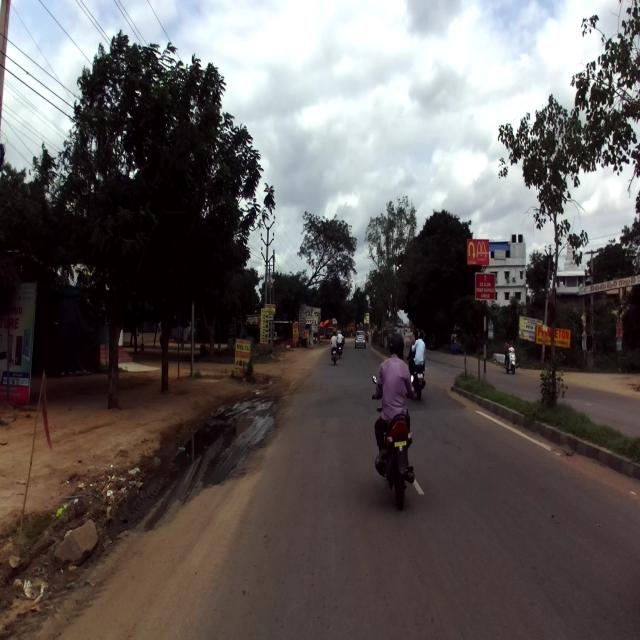motorcycle: (371, 369, 415, 510)
